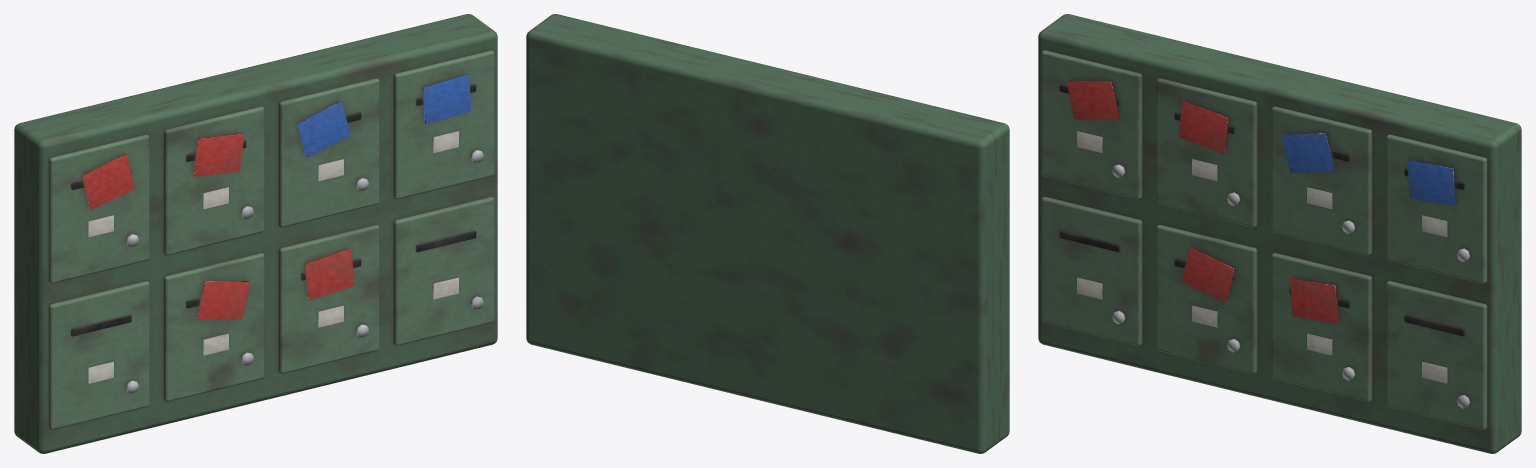
File: ul_skrzynki.glb
3 views of the same model, side by side, from view 1: azimuth 30°, elevation 25°; view 2: azimuth 150°, elevation 25°; view 3: azimuth 330°, elevation 25° (orthographic).
Parts seen in each view (by area): view 1: Skrzynki; view 2: Skrzynki; view 3: Skrzynki.
Part boxes in pixels (x1,y1,x2,y2): Skrzynki: (14,14,497,453); Skrzynki: (526,14,1009,453); Skrzynki: (1038,14,1521,453).
Bounding box in the file's own units: 0.92 × 0.6 × 0.121.
1 material, 1 textured.
